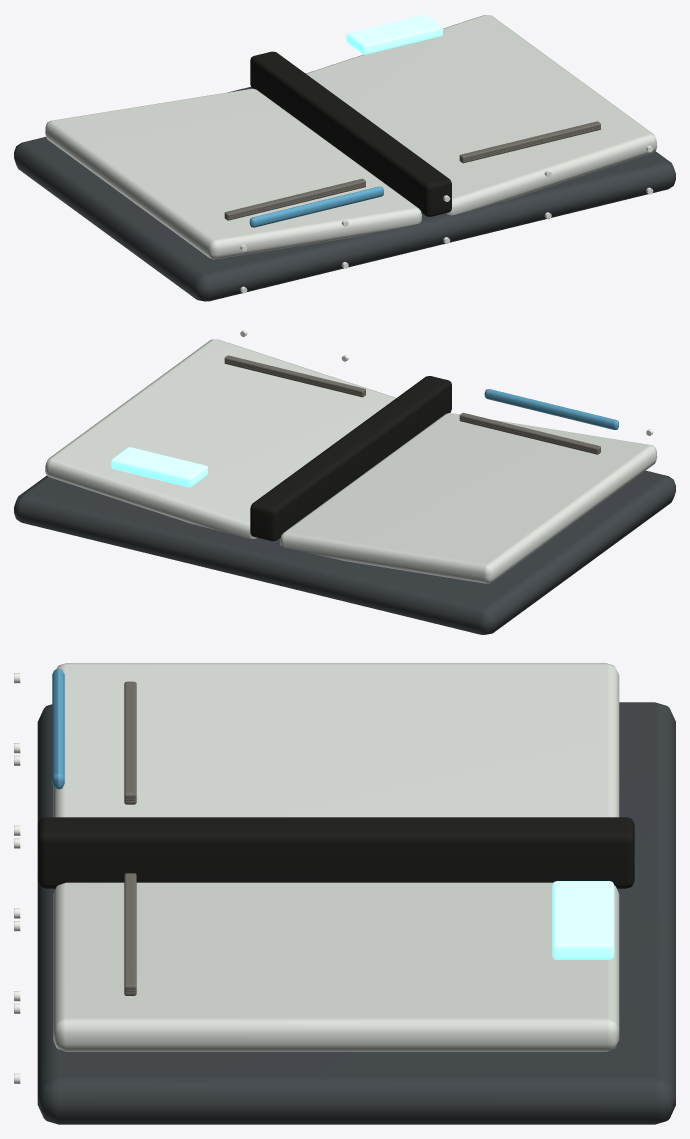
Rendered from hp_prop_archive_book_open.glb.
3 renders of one model, top to bottom at view 1: azimuth 30°, elevation 25°; view 2: azimuth 150°, elevation 25°; view 3: azimuth 270°, elevation 25°, orthographic. The views are drawn at different scales.
Visible parts, largest first — view 1: prop_archive_book_open_left_page, prop_archive_book_open_right_page, prop_archive_book_open_clipboard_back, prop_archive_book_open_dark_spine, prop_archive_book_open_h0_label_plate, prop_archive_book_open_archive_blue_rule_art_color_block, prop_archive_book_open_page_line_left_0.12, prop_archive_book_open_page_line_right_0.12; view 2: prop_archive_book_open_left_page, prop_archive_book_open_right_page, prop_archive_book_open_clipboard_back, prop_archive_book_open_dark_spine, prop_archive_book_open_h0_label_plate, prop_archive_book_open_archive_blue_rule_art_color_block, prop_archive_book_open_page_line_right_0.12, prop_archive_book_open_page_line_left_0.12; view 3: prop_archive_book_open_right_page, prop_archive_book_open_left_page, prop_archive_book_open_clipboard_back, prop_archive_book_open_dark_spine, prop_archive_book_open_h0_label_plate, prop_archive_book_open_archive_blue_rule_art_color_block, prop_archive_book_open_page_line_left_0.12, prop_archive_book_open_page_line_right_0.12.
Part boxes in pixels (bbox=[...]): prop_archive_book_open_left_page: bbox=[45, 88, 422, 259]; prop_archive_book_open_right_page: bbox=[306, 15, 657, 215]; prop_archive_book_open_clipboard_back: bbox=[14, 73, 675, 301]; prop_archive_book_open_dark_spine: bbox=[250, 51, 451, 216]; prop_archive_book_open_h0_label_plate: bbox=[346, 14, 442, 54]; prop_archive_book_open_archive_blue_rule_art_color_block: bbox=[249, 186, 383, 227]; prop_archive_book_open_page_line_left_0.12: bbox=[224, 178, 365, 216]; prop_archive_book_open_page_line_right_0.12: bbox=[459, 121, 600, 159]; prop_archive_book_open_left_page: bbox=[280, 413, 657, 583]; prop_archive_book_open_right_page: bbox=[45, 339, 395, 538]; prop_archive_book_open_clipboard_back: bbox=[14, 470, 675, 634]; prop_archive_book_open_dark_spine: bbox=[250, 376, 451, 541]; prop_archive_book_open_h0_label_plate: bbox=[111, 447, 207, 487]; prop_archive_book_open_archive_blue_rule_art_color_block: bbox=[484, 389, 618, 429]; prop_archive_book_open_page_line_right_0.12: bbox=[224, 355, 365, 393]; prop_archive_book_open_page_line_left_0.12: bbox=[459, 412, 600, 450]; prop_archive_book_open_right_page: bbox=[53, 882, 619, 1051]; prop_archive_book_open_left_page: bbox=[53, 663, 619, 817]; prop_archive_book_open_clipboard_back: bbox=[37, 702, 675, 1124]; prop_archive_book_open_dark_spine: bbox=[37, 817, 634, 888]; prop_archive_book_open_h0_label_plate: bbox=[552, 881, 614, 959]; prop_archive_book_open_archive_blue_rule_art_color_block: bbox=[52, 669, 64, 789]; prop_archive_book_open_page_line_left_0.12: bbox=[124, 681, 136, 798]; prop_archive_book_open_page_line_right_0.12: bbox=[124, 873, 136, 989].
Size of the model in its own units: 0.9 by 0.129 by 0.6431.
